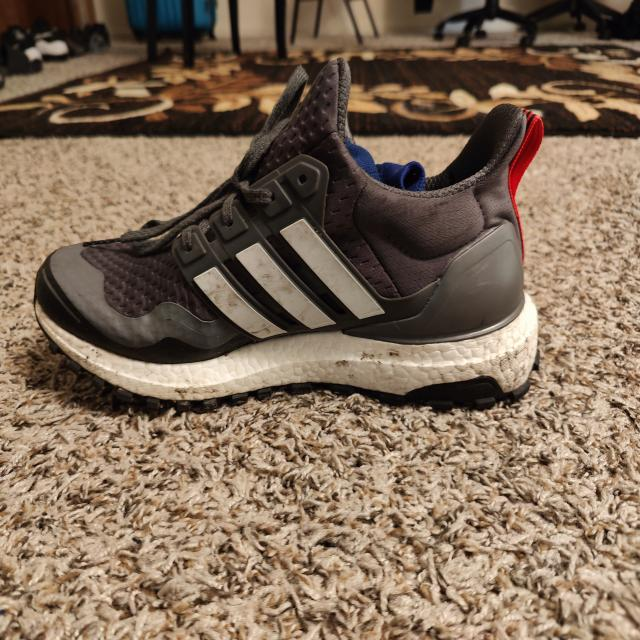black shoes: (247, 174, 538, 403)
